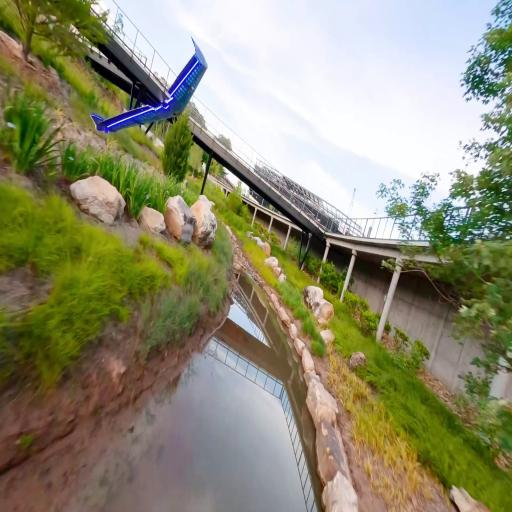uav: (88, 26, 208, 148)
